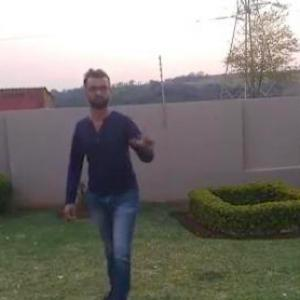land_hand: (130, 114, 158, 160)
